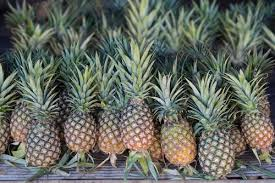pineapple: (25, 116, 60, 169), (159, 118, 195, 167), (121, 102, 153, 151), (199, 132, 232, 177), (62, 112, 97, 154)
